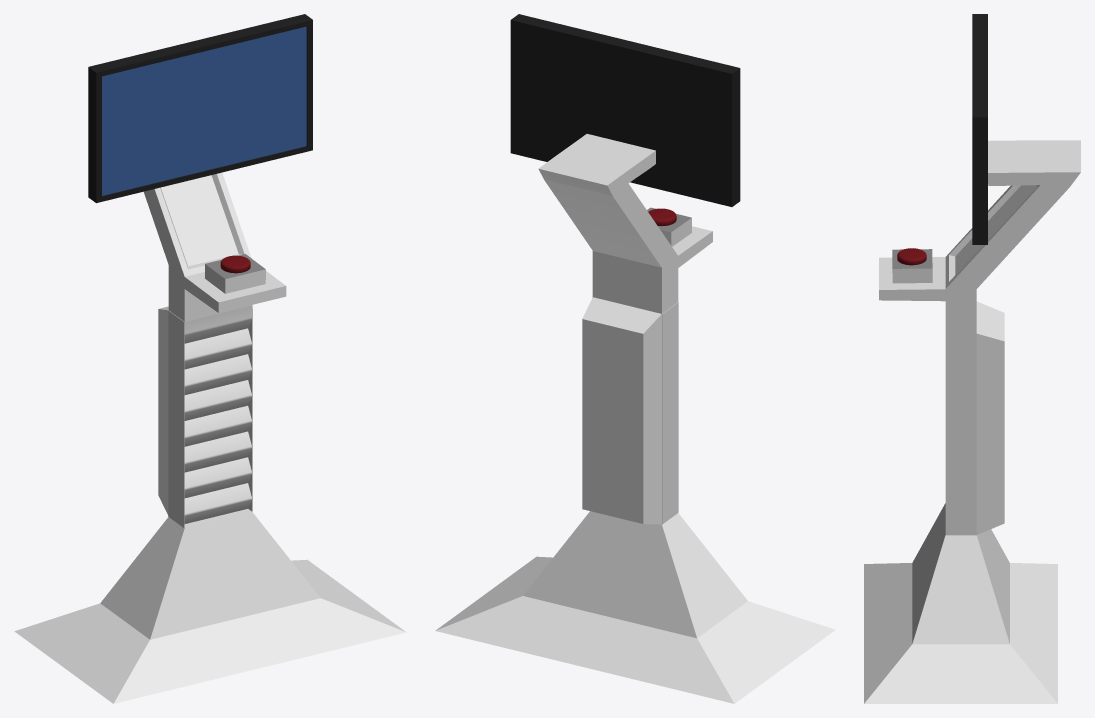
Rendered from Checkpoint2(Baked).fbx.
The picture shows the model from 3 angles, left to right: view 1: azimuth 30°, elevation 25°; view 2: azimuth 150°, elevation 25°; view 3: azimuth 270°, elevation 25°; orthographic projection. The views are drawn at different scales.
Visible parts, largest first — view 1: Monitor.B, Stand.B.Metal, Stand.B.Stripes, Stand.B.BlackMetal, Button Base.B.StripesBase; view 2: Stand.B.Metal, Monitor.B, Stand.B.Stripes, Stand.B.BlackMetal; view 3: Stand.B.Metal, Stand.B.Stripes, Stand.B.BlackMetal, Monitor.B, Button Base.B.StripesBase, Button.B, Button Base.B.
Boxes of the visible parts, <box> form: Monitor.B: <box>88,14,312,203</box>; Stand.B.Metal: <box>100,172,320,639</box>; Stand.B.Stripes: <box>14,559,406,703</box>; Stand.B.BlackMetal: <box>158,305,252,528</box>; Button Base.B.StripesBase: <box>205,264,265,293</box>; Stand.B.Metal: <box>523,134,747,638</box>; Monitor.B: <box>510,14,740,206</box>; Stand.B.Stripes: <box>435,556,835,703</box>; Stand.B.BlackMetal: <box>582,297,678,524</box>; Stand.B.Metal: <box>879,140,1080,644</box>; Stand.B.Stripes: <box>864,563,1057,703</box>; Stand.B.BlackMetal: <box>945,301,1004,535</box>; Monitor.B: <box>972,14,987,244</box>; Button Base.B.StripesBase: <box>892,263,932,283</box>; Button.B: <box>897,248,926,265</box>; Button Base.B: <box>892,249,932,268</box>.
Bounding box in the file's own units: 361 × 685 × 237.
